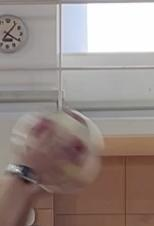Sports-Ball: (15, 112, 104, 192)
